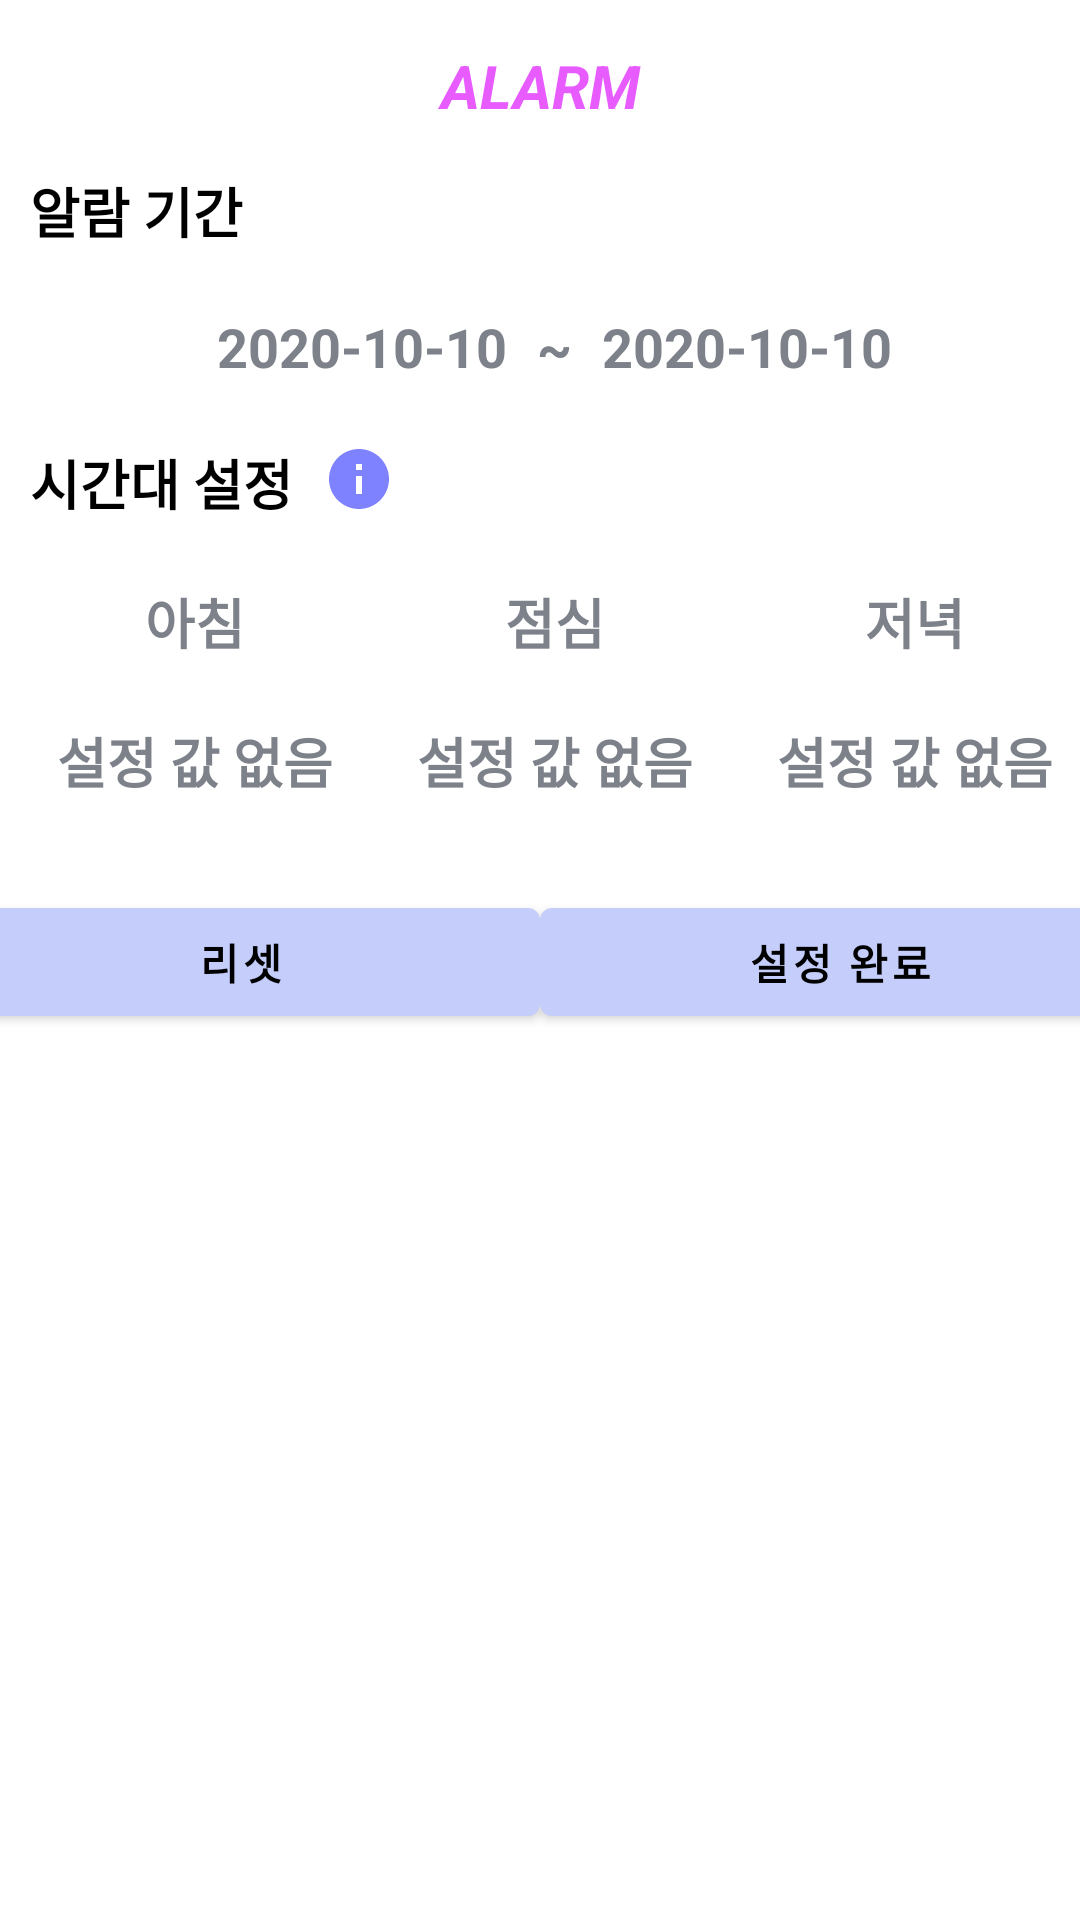

Screen size 1080×1920. Icon name, then its center in pixels as [x,y]:
info: [359,479]
